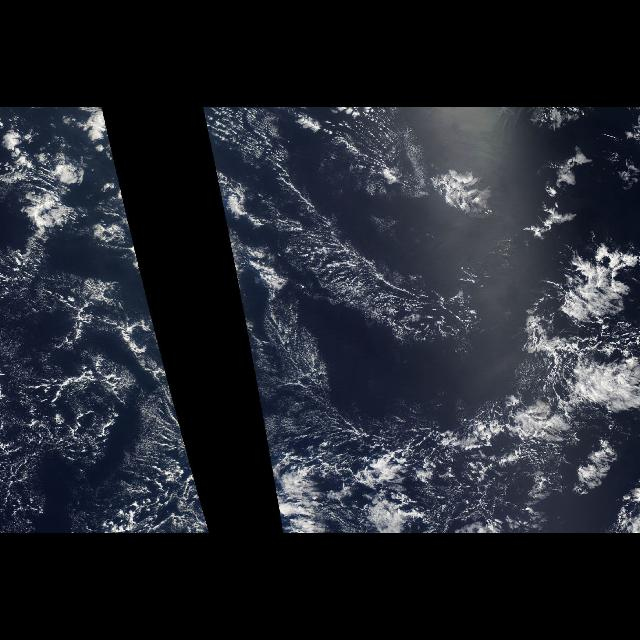Fish: (257, 225, 639, 532), (124, 398, 212, 534)
Flower: (0, 108, 146, 286)
Gravel: (293, 407, 547, 531), (4, 338, 134, 520)
Sugar: (290, 209, 490, 345), (316, 110, 434, 194)
